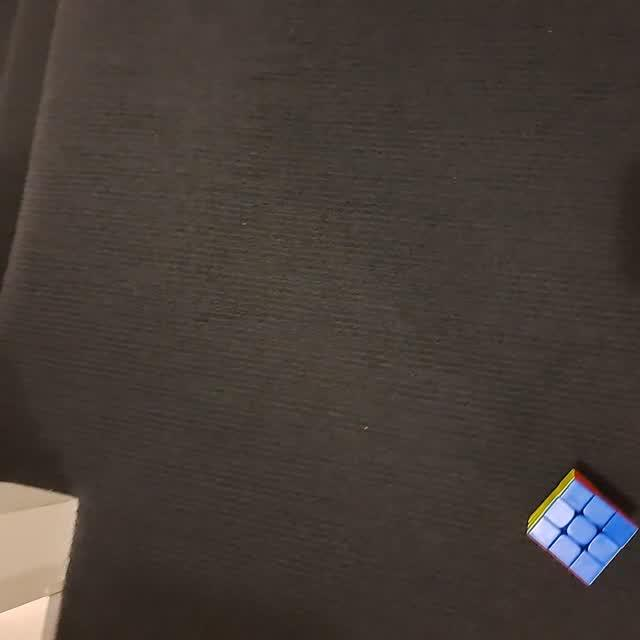rubix_cube: (521, 464, 640, 589)
